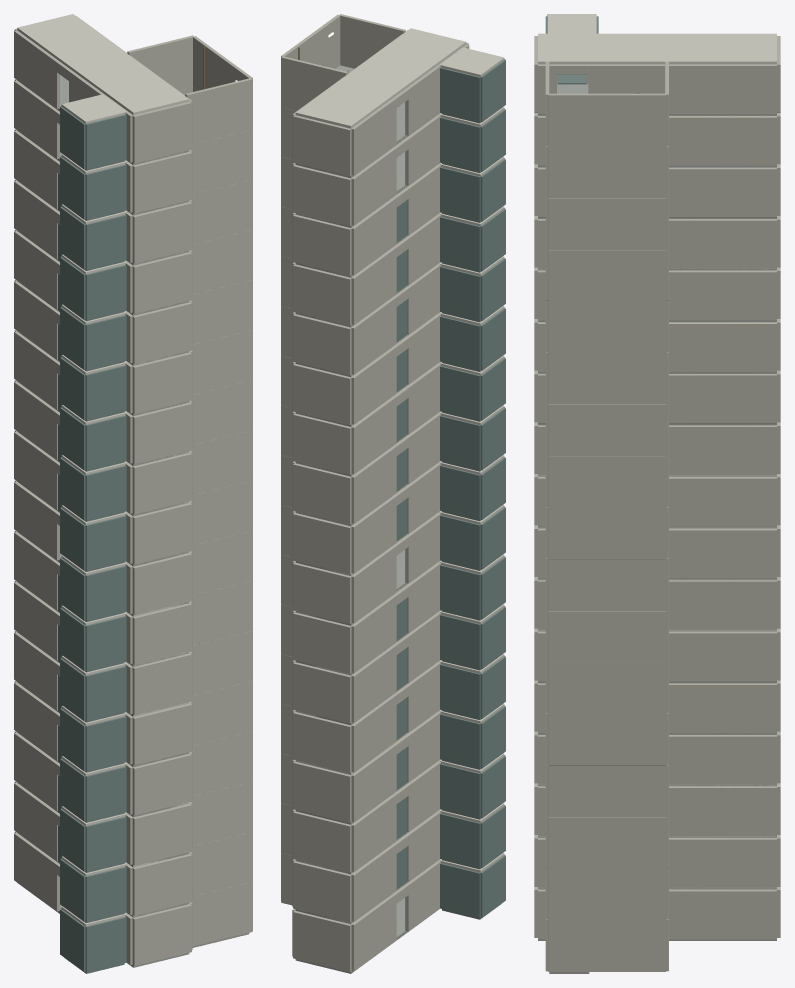
Rendered from core_finish.glb.
3 views of the same model, side by side, from view 1: azimuth 30°, elevation 25°; view 2: azimuth 150°, elevation 25°; view 3: azimuth 270°, elevation 25° (orthographic). The views are drawn at different scales.
Parts seen in each view (by area): view 1: core_C2_wall, core_C2_metal, core_C2_ceiling, core_C2_tile; view 2: core_C2_wall, core_C2_metal, core_C2_ceiling, core_C2_tile; view 3: core_C2_wall, core_C2_ceiling, core_C2_tile.
Boxes of the visible parts, box(x1,y1,x2,y2) form: core_C2_wall: box(14, 16, 252, 965); core_C2_metal: box(58, 106, 126, 973); core_C2_ceiling: box(17, 14, 189, 926); core_C2_tile: box(17, 75, 189, 967); core_C2_wall: box(281, 14, 469, 971); core_C2_metal: box(323, 59, 505, 919); core_C2_ceiling: box(295, 28, 504, 924); core_C2_tile: box(295, 102, 439, 973); core_C2_wall: box(534, 36, 780, 971); core_C2_ceiling: box(538, 14, 776, 889); core_C2_tile: box(538, 84, 776, 940).
Size of the model in its own units: 10.6 by 51.2 by 13.
